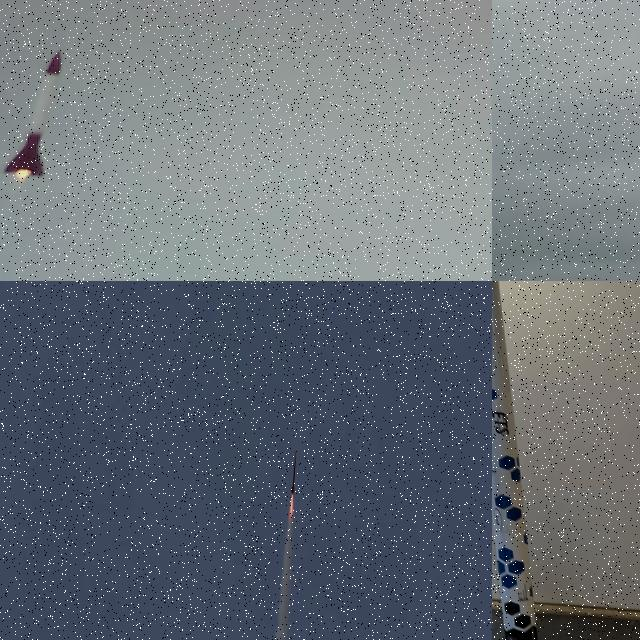Rocket: (492, 281, 538, 640), (3, 48, 62, 179), (291, 451, 296, 496)
